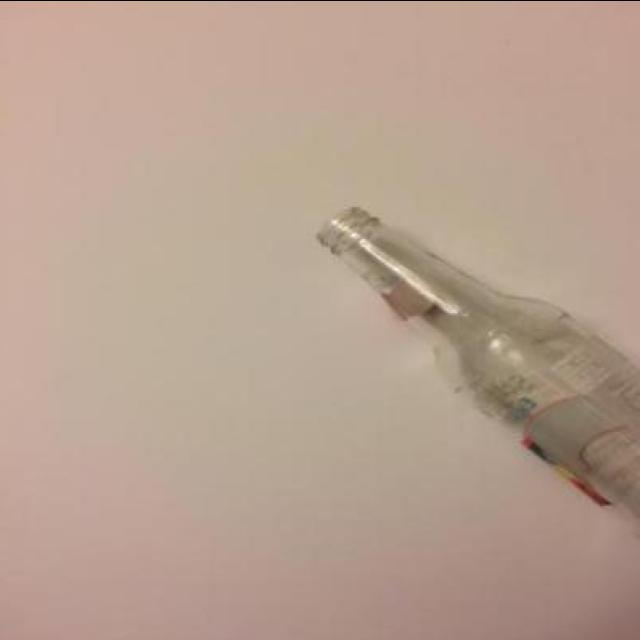kaca: (323, 205, 640, 554)
